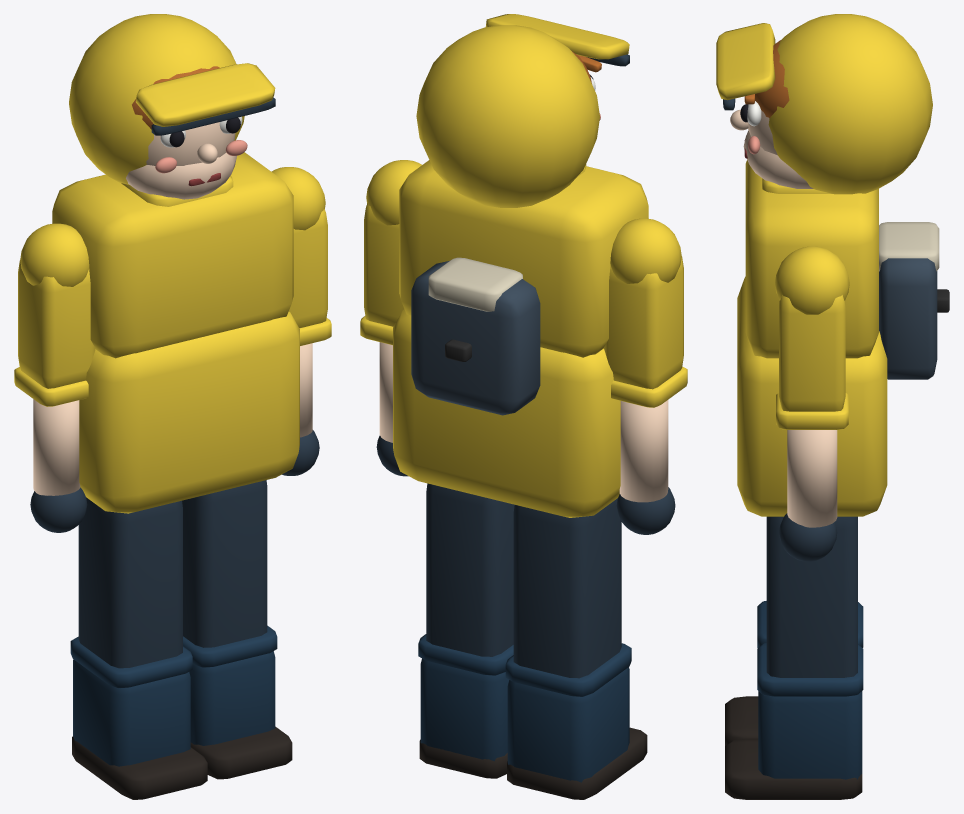
The model's file is angler3.glb.
3 views of the same model, side by side, from view 1: azimuth 30°, elevation 25°; view 2: azimuth 150°, elevation 25°; view 3: azimuth 270°, elevation 25° (orthographic). The views are drawn at different scales.
Parts seen in each view (by area): view 1: body_f2d23a, head_f2d23a, legL_2a3a4a, legR_2a3a4a, armL_f2d23a, legL_1f3a52, legR_1f3a52, armR_f2d23a, head_f6d7bd, armL_f6d7bd, legL_2a2420, legR_2a2420 (+5 smaller); view 2: body_f2d23a, head_f2d23a, legL_2a3a4a, legR_2a3a4a, body_3a4a5a, armL_f2d23a, legL_1f3a52, legR_1f3a52, armR_f2d23a, armL_f6d7bd, body_d8d0b8, legL_2a2420 (+3 smaller); view 3: body_f2d23a, head_f2d23a, legR_2a3a4a, armR_f2d23a, legR_1f3a52, body_3a4a5a, armR_f6d7bd, legR_2a2420, body_d8d0b8, head_f6d7bd, armR_2a3a4a, legL_2a2420 (+2 smaller).
Part boxes in pixels (<box>): body_f2d23a: <box>52,152,299,513</box>; head_f2d23a: <box>69,14,275,184</box>; legL_2a3a4a: <box>78,497,182,668</box>; legR_2a3a4a: <box>182,480,267,647</box>; armL_f2d23a: <box>14,223,95,406</box>; legL_1f3a52: <box>70,636,192,766</box>; legR_1f3a52: <box>183,625,277,745</box>; armR_f2d23a: <box>271,167,331,345</box>; head_f6d7bd: <box>126,122,236,199</box>; armL_f6d7bd: <box>33,399,80,495</box>; legL_2a2420: <box>72,736,207,799</box>; legR_2a2420: <box>190,726,292,779</box>; body_f2d23a: <box>393,160,648,517</box>; head_f2d23a: <box>416,14,629,207</box>; legL_2a3a4a: <box>513,498,621,678</box>; legR_2a3a4a: <box>426,483,514,656</box>; body_3a4a5a: <box>411,261,540,415</box>; armL_f2d23a: <box>604,218,687,407</box>; legL_1f3a52: <box>505,643,631,782</box>; legR_1f3a52: <box>418,634,513,761</box>; armR_f2d23a: <box>360,160,421,345</box>; armL_f6d7bd: <box>619,400,668,502</box>; body_d8d0b8: <box>428,257,522,311</box>; legL_2a2420: <box>507,727,647,799</box>; body_f2d23a: <box>737,160,887,516</box>; head_f2d23a: <box>716,14,932,194</box>; legR_2a3a4a: <box>766,516,857,677</box>; armR_f2d23a: <box>775,246,849,429</box>; legR_1f3a52: <box>757,643,863,779</box>; body_3a4a5a: <box>879,258,937,379</box>; armR_f6d7bd: <box>787,430,837,527</box>; legR_2a2420: <box>725,738,862,799</box>; body_d8d0b8: <box>879,222,939,271</box>; head_f6d7bd: <box>730,109,813,188</box>; armR_2a3a4a: <box>779,513,837,561</box>; legL_2a2420: <box>725,696,758,745</box>.
Bounding box in the file's own units: 0.8373 × 1.96 × 0.5608.
